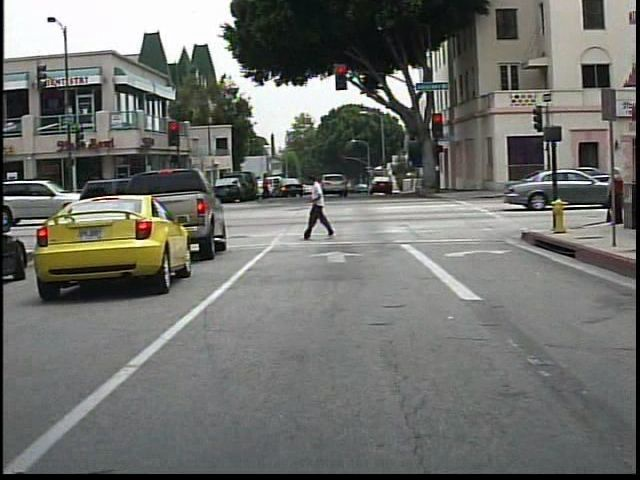person: (302, 171, 339, 243), (603, 163, 626, 228), (258, 168, 278, 207)
